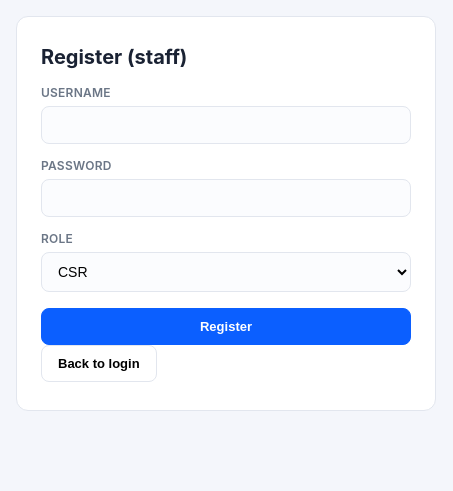
Test: StaffRegisterPage › shows an error message when registration fails
Type "dup_user" into the field labelled "Username" at [226, 125], box [41, 106, 411, 144]
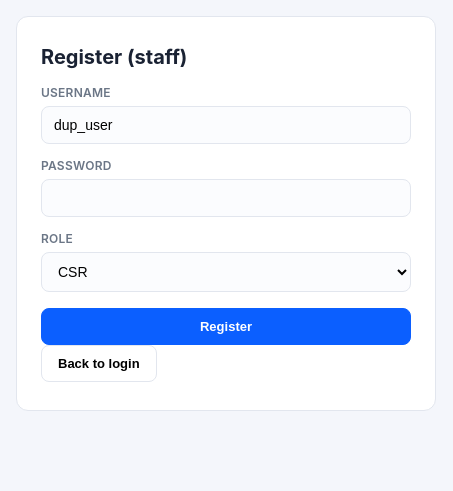
Type "Str0ngPass!2026" into the password field labelled "Password" at [226, 198], box [41, 179, 411, 217]
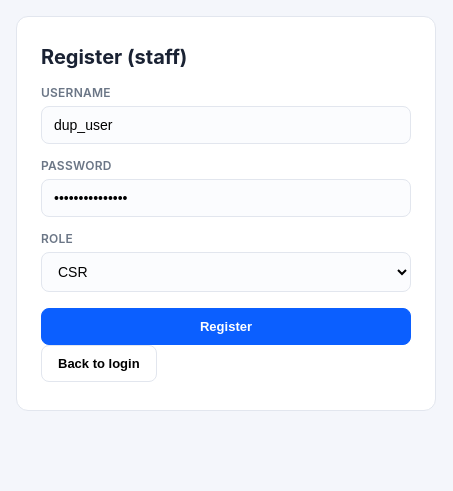
Click the button "Register" at [226, 326], box [41, 308, 411, 345]
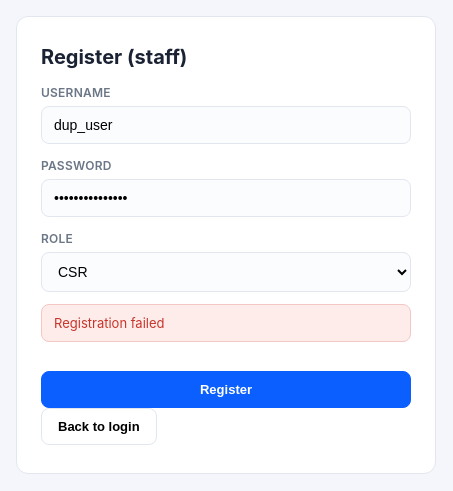
Now the message "Registration failed" is shown, box [41, 304, 411, 342]
